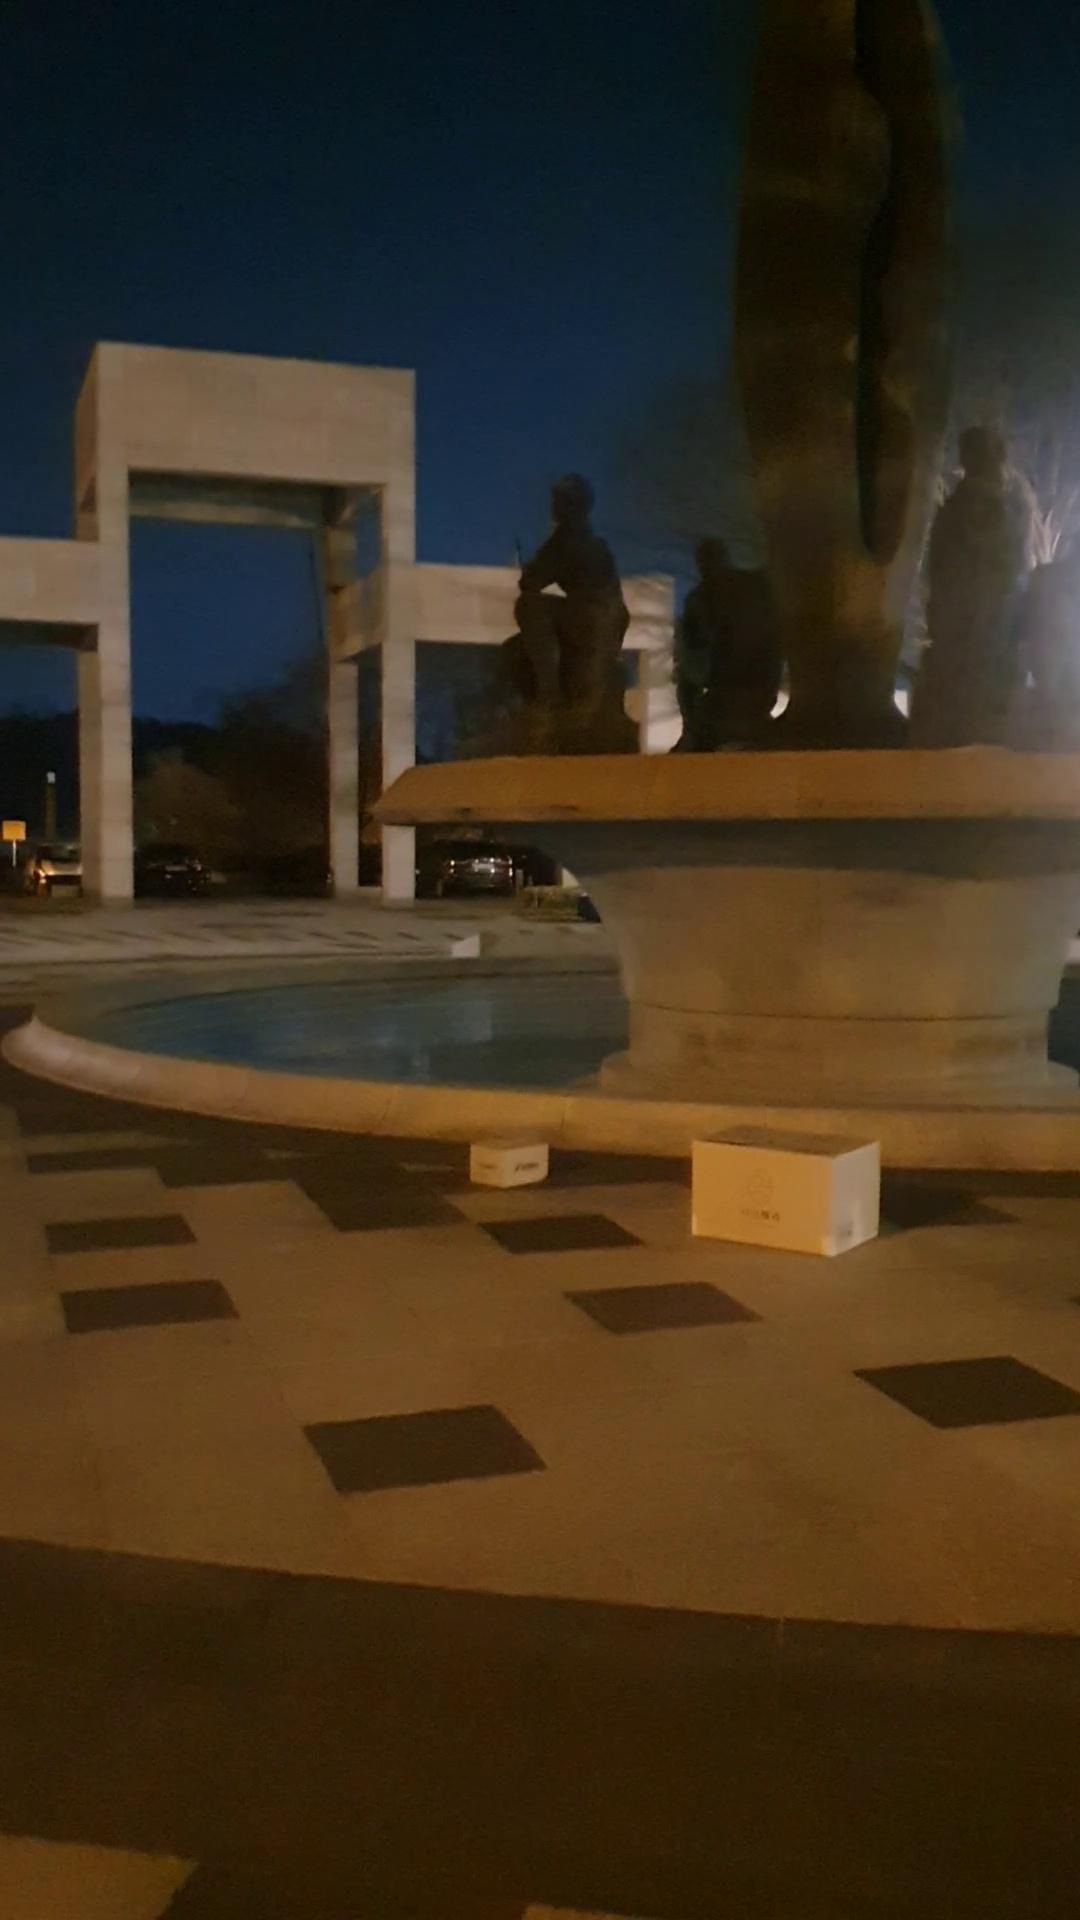Box: (678, 1124, 889, 1258), (468, 1120, 550, 1189)
